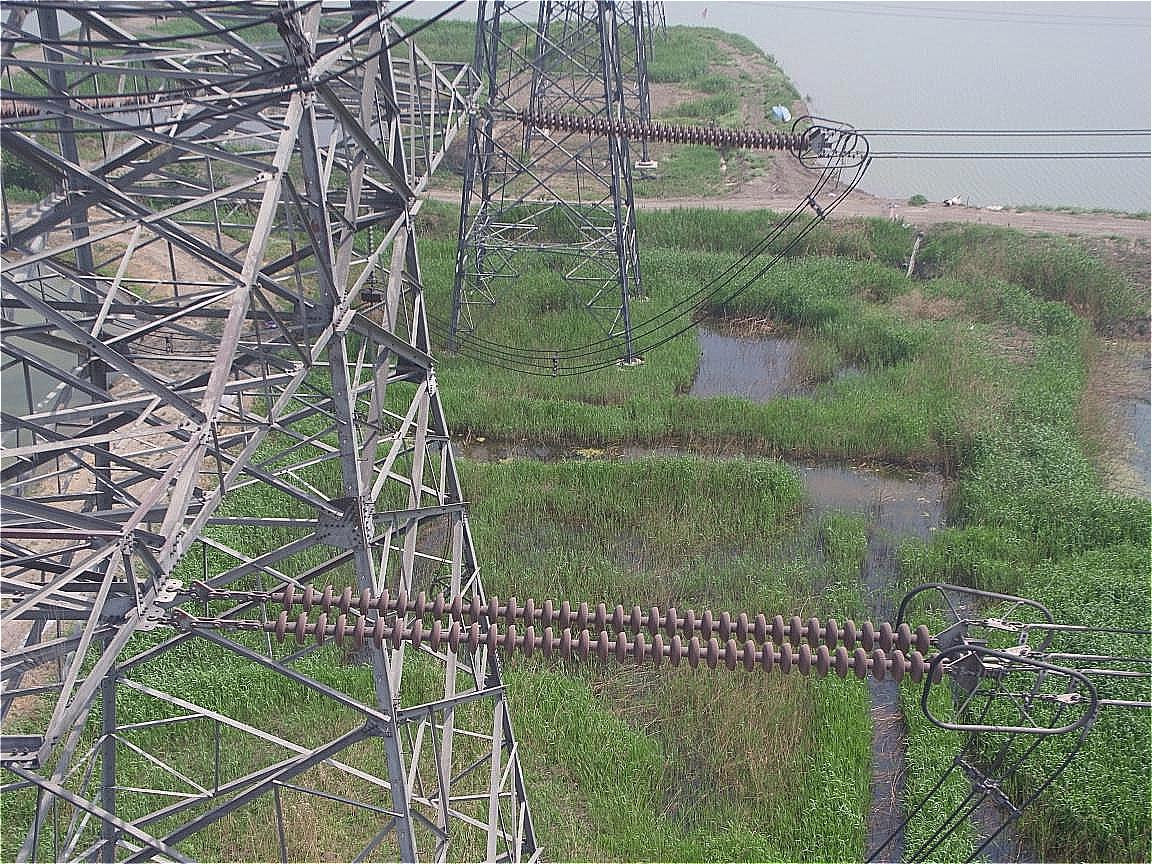insultor1: (237, 562, 964, 703)
insultor2: (517, 91, 822, 180)
